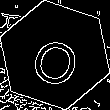O_N: (25, 24, 85, 86)
